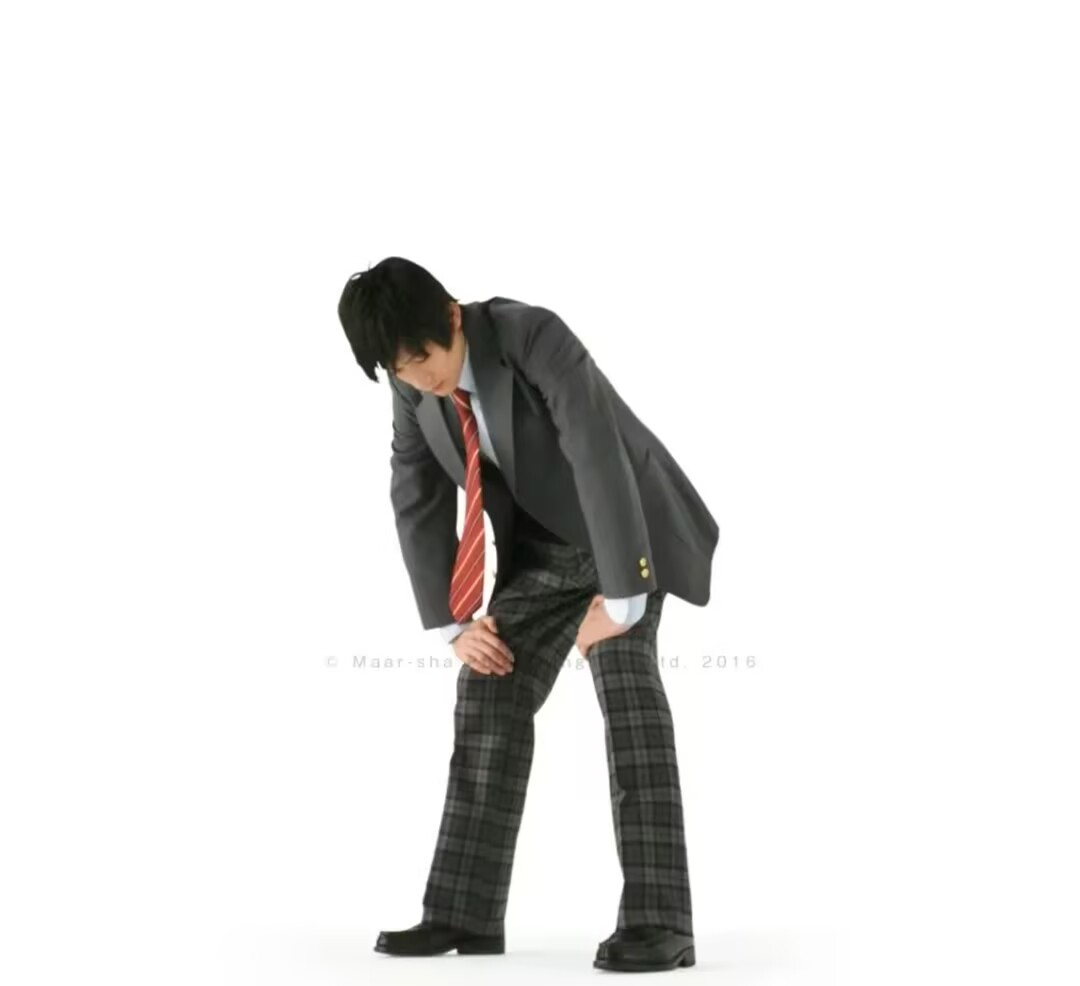bending: (270, 209, 797, 975)
